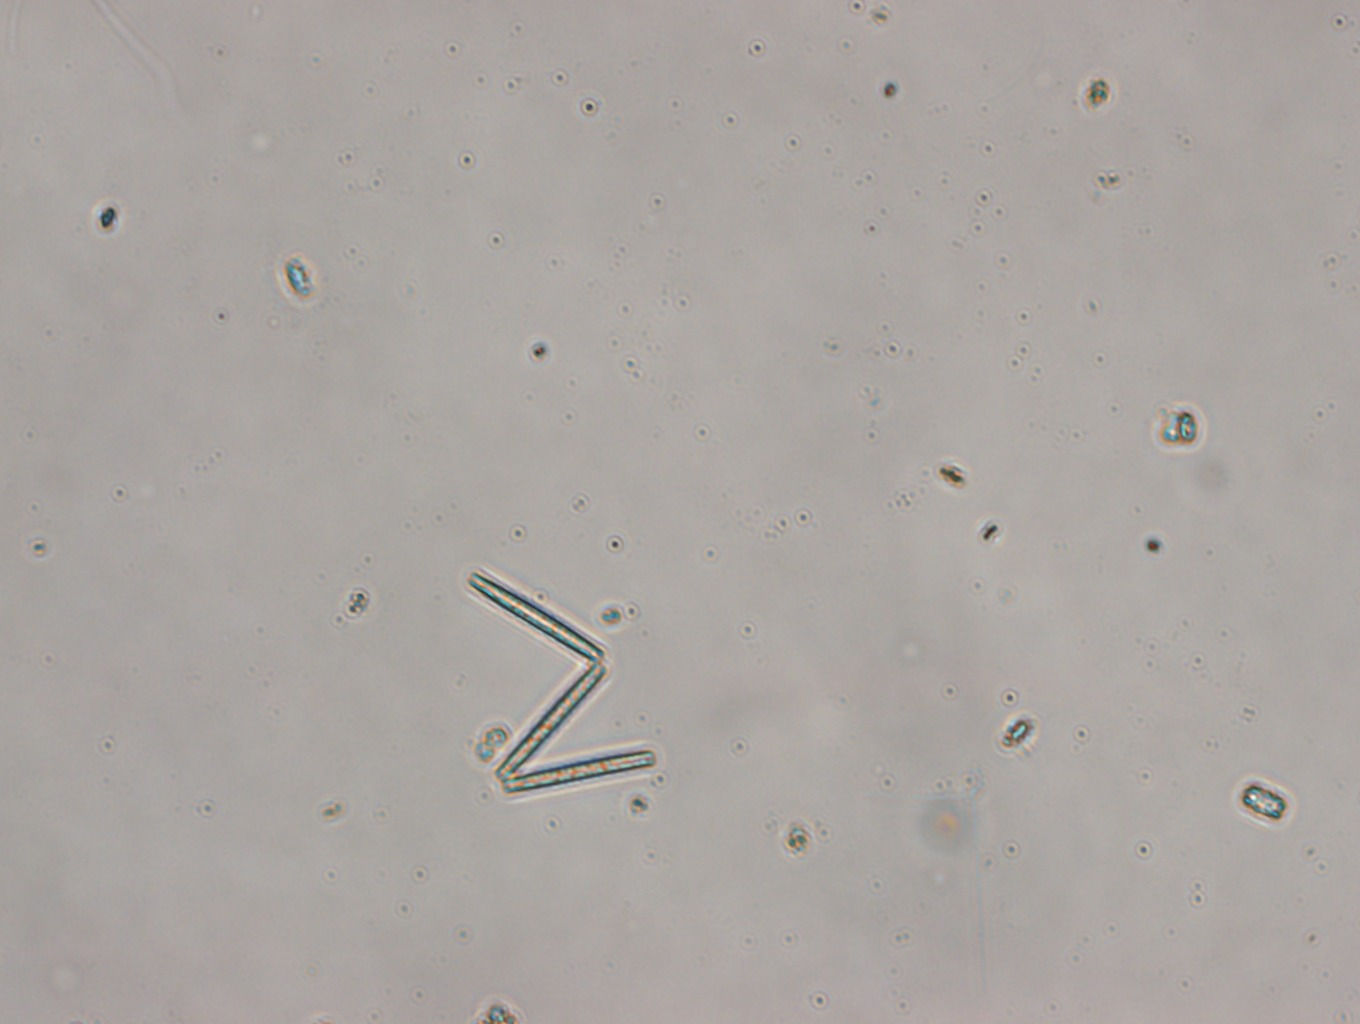thalassionema nitzschioides: (464, 568, 658, 792)
